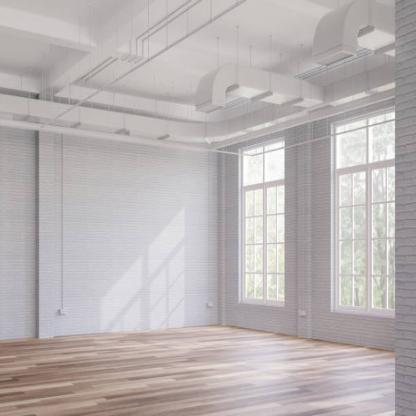Window: (328, 104, 395, 321), (235, 138, 285, 310)
